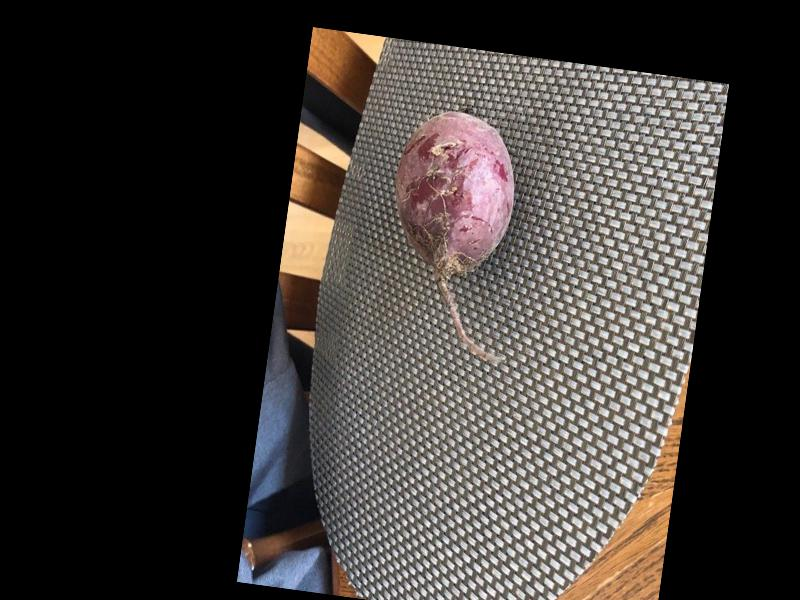Beet: (372, 107, 537, 364)
